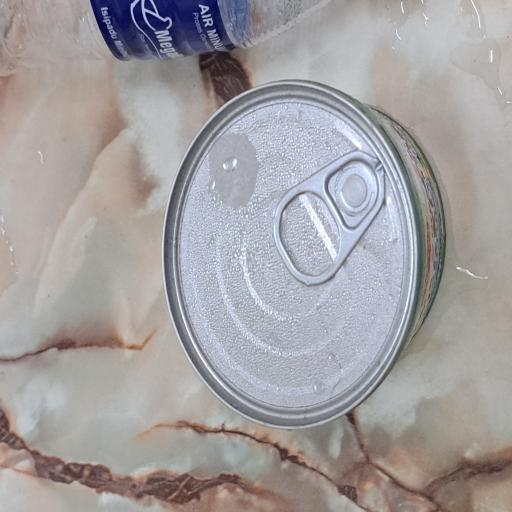can: (62, 214, 322, 512)
plastic bottle: (327, 0, 384, 463)
pop tab: (169, 363, 273, 512)
